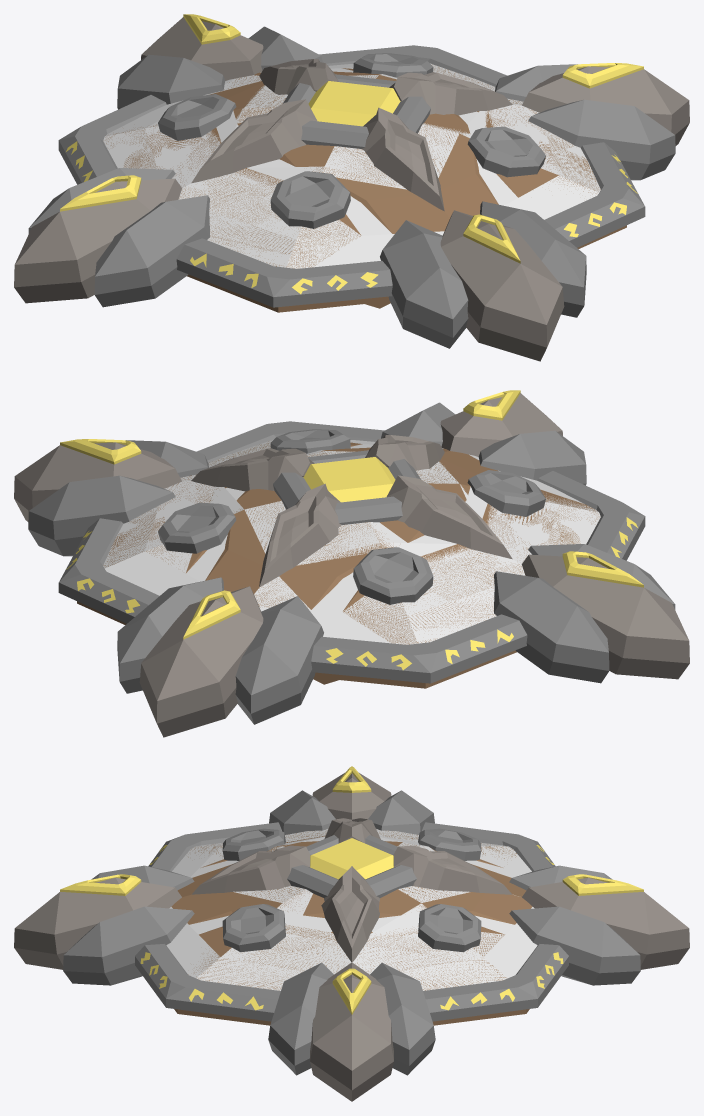
The model's file is shield.fbx.
The picture shows the model from 3 angles, top to bottom: view 1: azimuth 30°, elevation 25°; view 2: azimuth 150°, elevation 25°; view 3: azimuth 270°, elevation 25°; orthographic projection. The views are drawn at different scales.
Parts seen in each view (by area): view 1: Plane.006, Plane.003, Plane.004, Plane.009, Plane.007, Plane.008, Plane.002, Plane.001, Plane.005, Plane; view 2: Plane.006, Plane.003, Plane.004, Plane.009, Plane.008, Plane.007, Plane.002, Plane.001, Plane.005, Plane; view 3: Plane.006, Plane.003, Plane.004, Plane.007, Plane.008, Plane.009, Plane.002, Plane.001, Plane.005, Plane.
Boxes of the visible parts, x1,y1,x2,y2 form: Plane.006: [14, 14, 689, 361]; Plane.003: [103, 63, 600, 268]; Plane.004: [58, 45, 645, 307]; Plane.009: [105, 64, 626, 312]; Plane.007: [94, 54, 586, 317]; Plane.008: [28, 26, 675, 348]; Plane.002: [191, 59, 512, 211]; Plane.001: [158, 53, 545, 228]; Plane.005: [283, 74, 430, 148]; Plane: [308, 81, 400, 126]; Plane.006: [14, 390, 689, 737]; Plane.003: [103, 439, 600, 644]; Plane.004: [58, 421, 645, 683]; Plane.009: [77, 441, 599, 688]; Plane.008: [117, 430, 609, 693]; Plane.007: [28, 402, 675, 724]; Plane.002: [191, 435, 512, 587]; Plane.001: [158, 429, 545, 604]; Plane.005: [273, 450, 420, 524]; Plane: [303, 457, 395, 502]; Plane.006: [14, 766, 689, 1101]; Plane.003: [166, 829, 537, 990]; Plane.004: [135, 822, 568, 1021]; Plane.007: [63, 790, 612, 1075]; Plane.008: [91, 790, 640, 1075]; Plane.009: [171, 830, 532, 1025]; Plane.002: [192, 818, 511, 962]; Plane.001: [222, 828, 481, 952]; Plane.005: [287, 835, 416, 897]; Plane: [310, 838, 393, 879].
Size of the model in its own units: 900 by 173 by 900.
